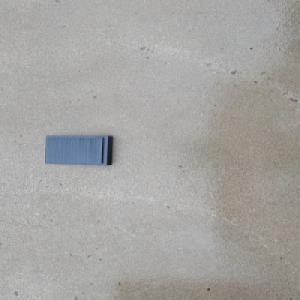PlasticPart: (43, 134, 114, 166)
